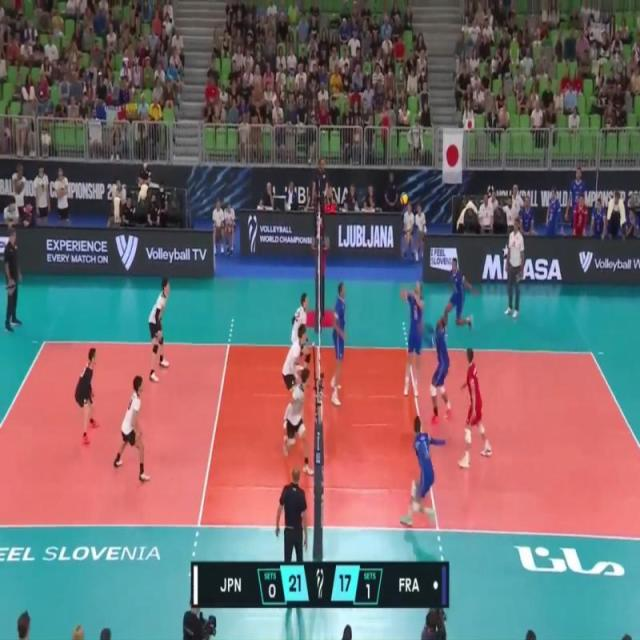volleyball: (399, 190, 410, 208)
